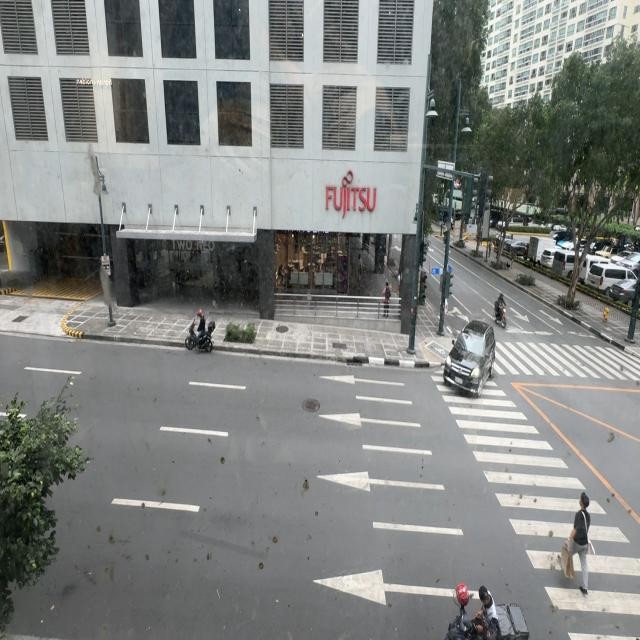crossing: (561, 492, 590, 594)
pedestrain: (510, 245, 516, 267), (506, 249, 512, 270)
